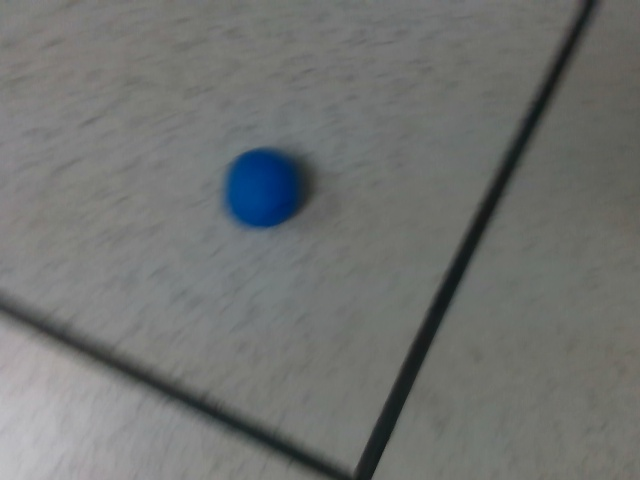blueball: (219, 144, 302, 232)
